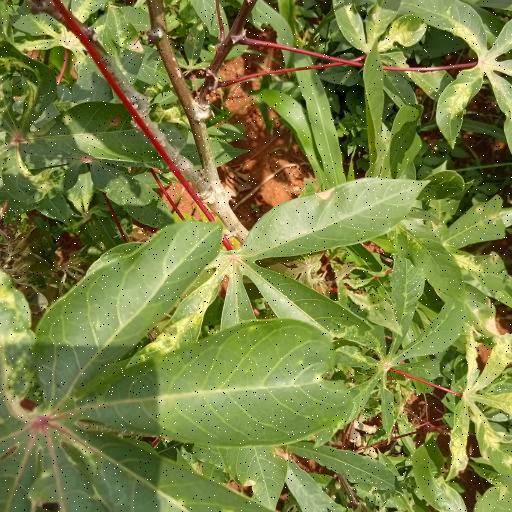Cassava_Healthy: (45, 222, 339, 512), (144, 174, 424, 373), (308, 252, 470, 437)
